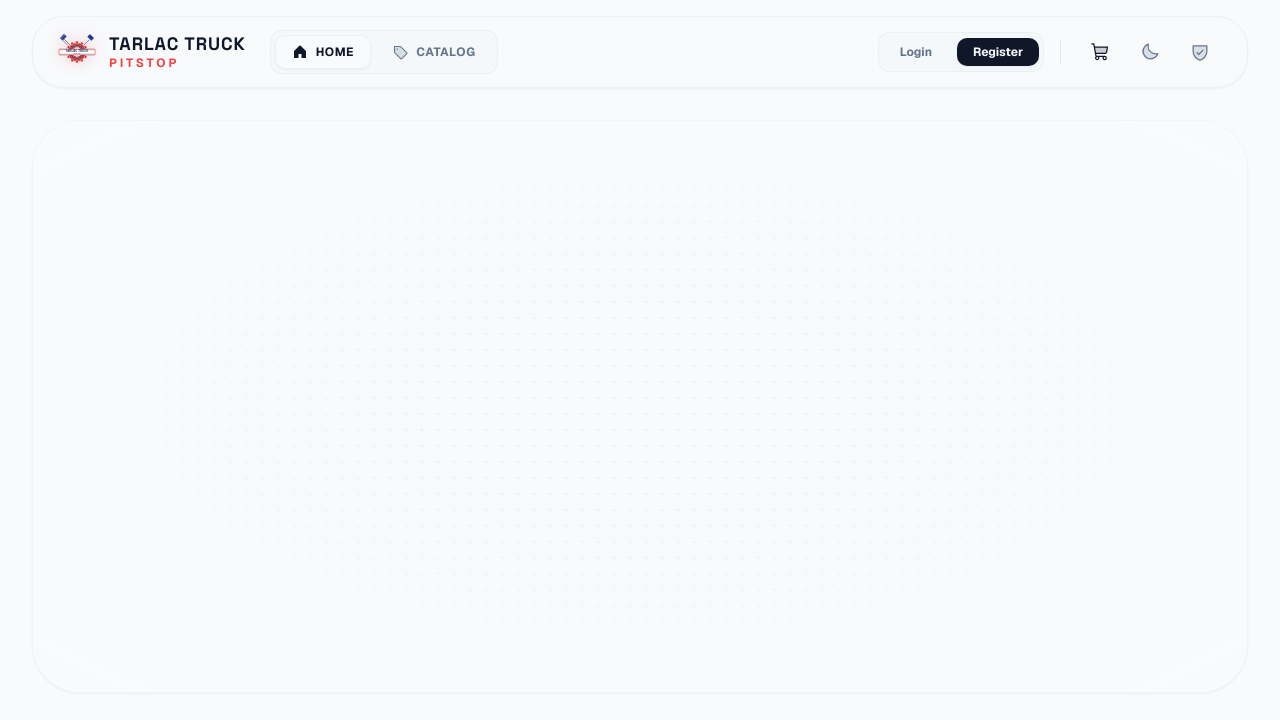
Test: CustomerStorefront Component Tests › renders product listing correctly
# Go to catalog tab
Click the button "Catalog". click: [434, 52]
box: [375,35,493,69]
(page scrolled)
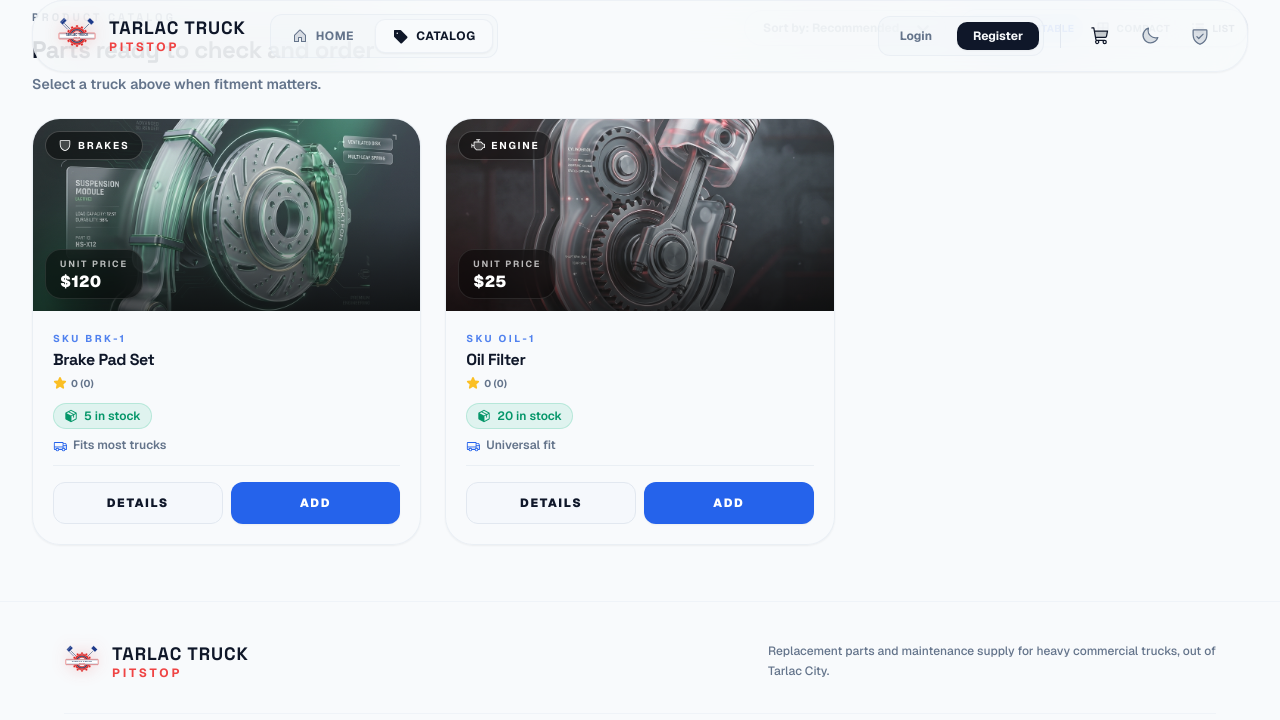
expect the heading "Brake Pad Set" is shown: met, box [53,348,154,370]
expect the heading "Oil Filter" is shown: met, box [466,348,525,370]
